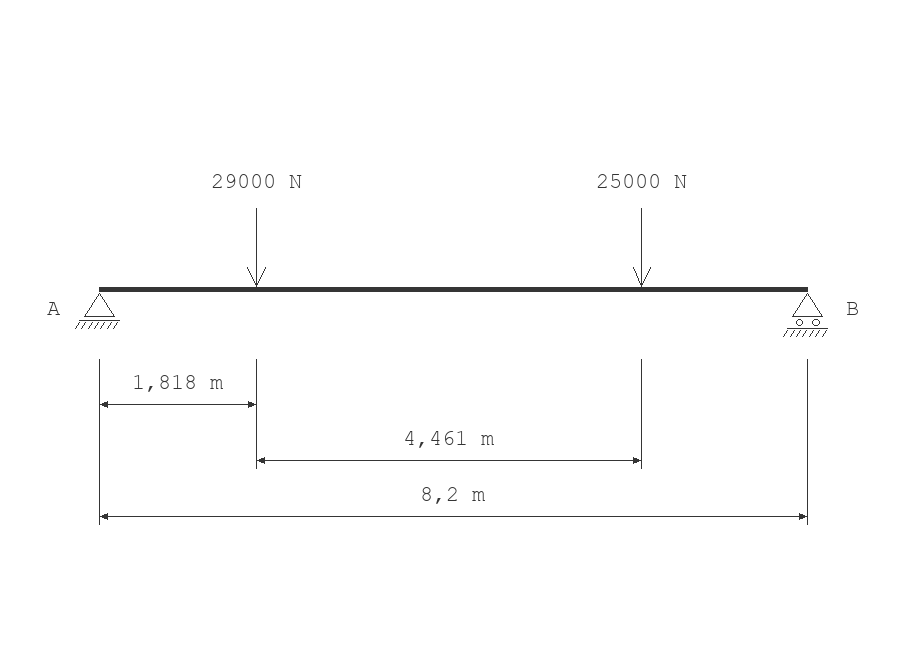pin_support: (75, 293, 120, 329)
point_load: (247, 208, 266, 287), (633, 208, 651, 287)
roller_support: (783, 293, 828, 337)
